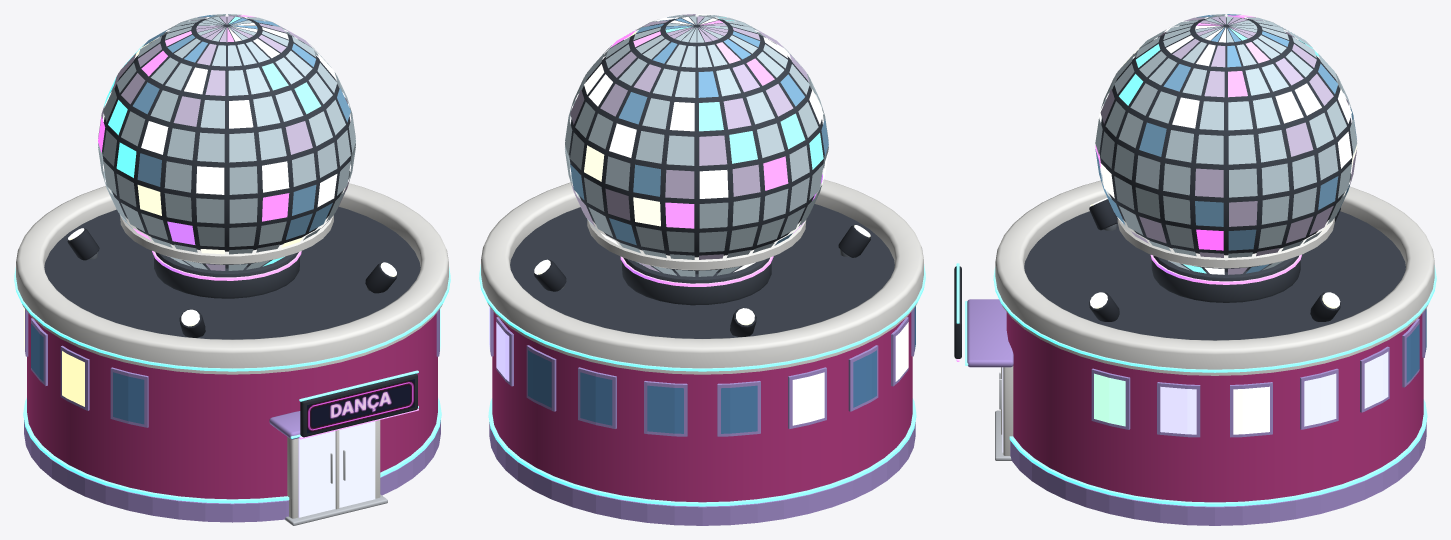
Rendered from discoteca_globo_magenta.glb.
3 views of the same model, side by side, from view 1: azimuth 30°, elevation 25°; view 2: azimuth 150°, elevation 25°; view 3: azimuth 270°, elevation 25° (orthographic). The views are drawn at different scales.
Visible parts, largest first — view 1: discoteca_globo_magenta; view 2: discoteca_globo_magenta; view 3: discoteca_globo_magenta.
Part boxes in pixels (left/top/right/bottom): discoteca_globo_magenta: left=14, top=14, right=450, bottom=525; discoteca_globo_magenta: left=479, top=14, right=925, bottom=525; discoteca_globo_magenta: left=954, top=14, right=1436, bottom=525.
Size of the model in its own units: 11.9 by 12.21 by 12.95.
11 materials, 2 textured.
